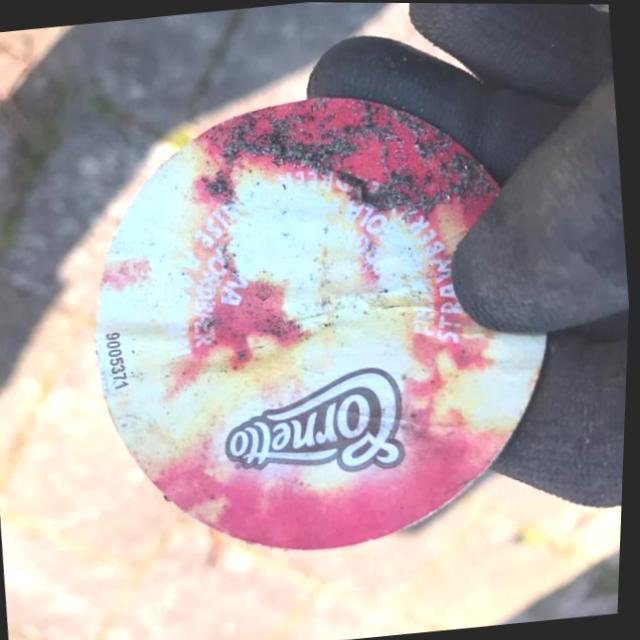Paper: (61, 67, 587, 578)
